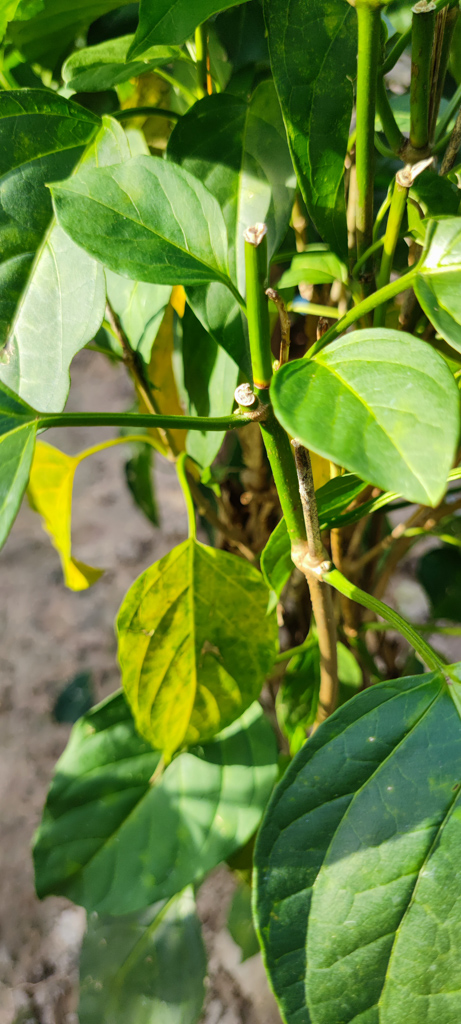Pepper yellow leaf: (117, 527, 272, 777), (22, 435, 107, 598)
